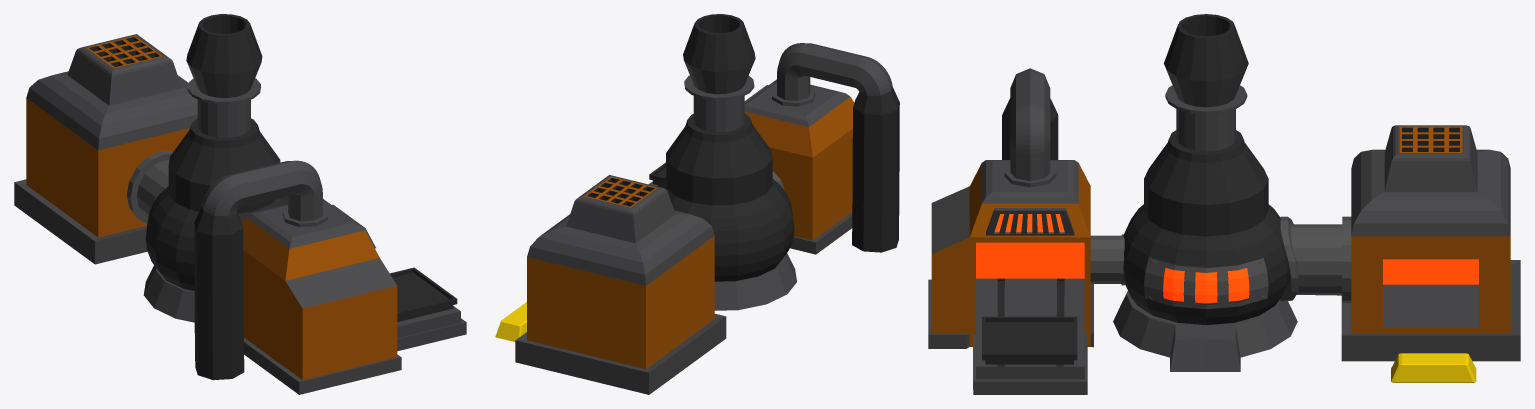
File: Ovenblend 1.fbx
3 renders of one model, left to right at view 1: azimuth 30°, elevation 25°; view 2: azimuth 150°, elevation 25°; view 3: azimuth 270°, elevation 25°, orthographic. The views are drawn at different scales.
Parts seen in each view (by area): view 1: Pich, Cube.001, Sphere, Cube, Cylinder; view 2: Cube.001, Pich, Sphere, Cylinder, Cube.002; view 3: Cube.001, Pich, Sphere, Cylinder, Cube, Cube.002.
Boxes of the visible parts, <box> form: Pich: <box>194,160,466,394</box>; Cube.001: <box>14,34,197,264</box>; Sphere: <box>145,14,287,290</box>; Cube: <box>389,267,457,322</box>; Cylinder: <box>143,265,194,322</box>; Cube.001: <box>515,175,726,394</box>; Pich: <box>649,43,899,254</box>; Sphere: <box>657,14,794,281</box>; Cylinder: <box>714,253,796,310</box>; Cube.002: <box>495,302,526,341</box>; Cube.001: <box>1280,125,1520,361</box>; Pich: <box>928,68,1125,394</box>; Sphere: <box>1123,14,1290,325</box>; Cylinder: <box>1113,291,1297,371</box>; Cube: <box>982,316,1077,364</box>; Cube.002: <box>1391,353,1476,382</box>.
Size of the model in its own units: 445 by 466 by 844.
